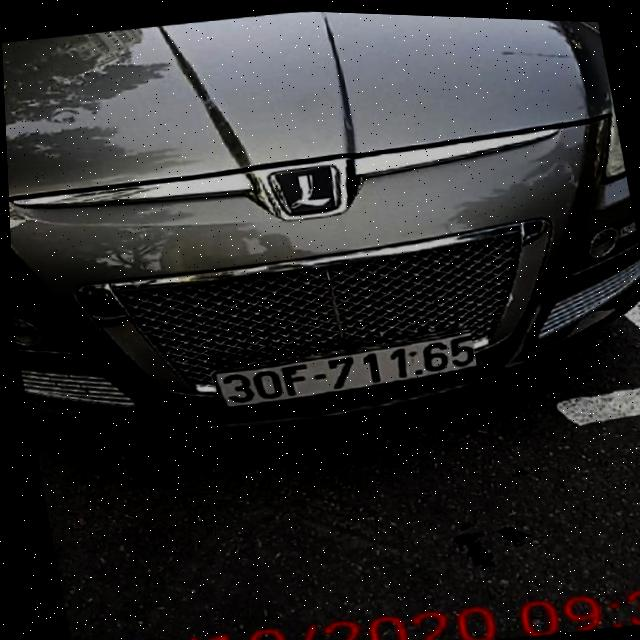car: (0, 0, 640, 479)
plate: (207, 317, 490, 427)
